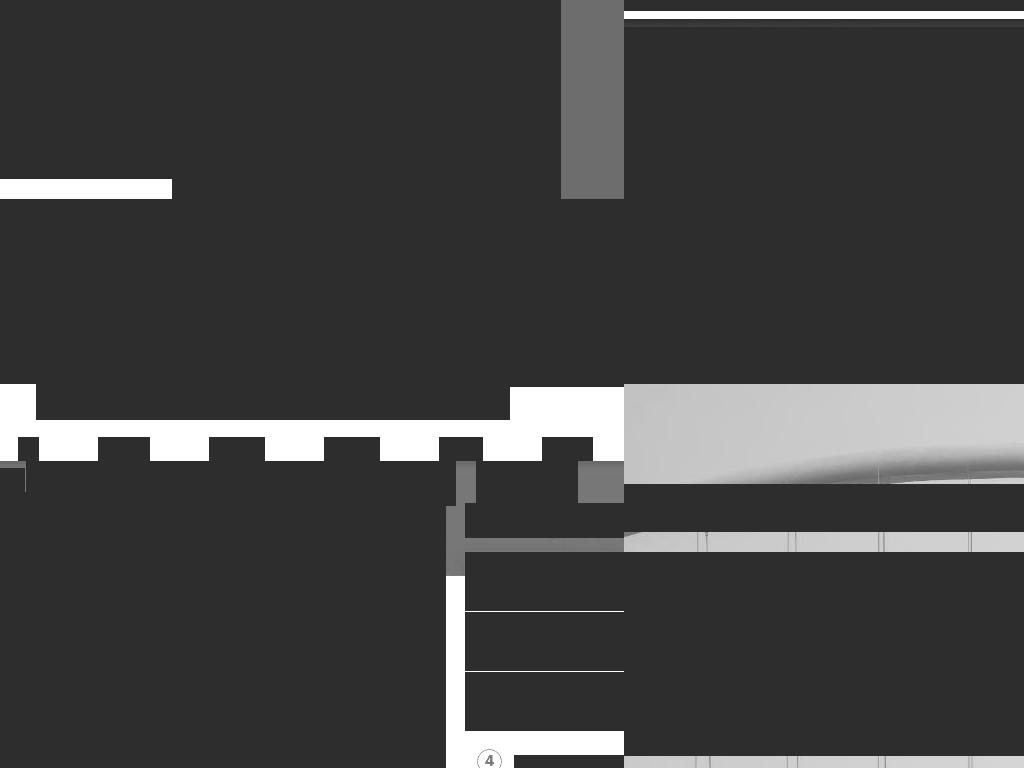button: (0, 493, 445, 768), (0, 0, 445, 179), (26, 461, 456, 506), (745, 340, 1024, 384), (465, 552, 624, 611), (465, 612, 624, 671), (465, 672, 624, 731), (465, 732, 624, 768), (172, 346, 278, 384), (286, 346, 392, 384), (400, 346, 506, 384), (514, 346, 620, 384), (0, 468, 25, 499)
heading: (624, 208, 1024, 320), (624, 484, 1024, 532), (172, 61, 526, 114), (172, 109, 500, 162), (36, 384, 510, 420), (267, 157, 411, 210), (465, 503, 624, 538), (172, 157, 257, 210), (514, 568, 624, 595), (514, 628, 624, 655), (514, 688, 624, 715), (514, 755, 624, 768)
iframe: (0, 384, 624, 768)
image: (624, 27, 1024, 384), (229, 0, 561, 384), (0, 492, 446, 768), (0, 199, 624, 384), (0, 0, 445, 179), (363, 231, 525, 383)
link: (476, 461, 578, 506), (0, 339, 142, 356), (209, 437, 265, 461), (324, 437, 380, 461), (98, 437, 150, 461), (542, 437, 593, 461), (439, 437, 483, 461), (18, 437, 39, 461)
text: (624, 552, 1024, 756), (0, 214, 394, 287), (172, 248, 584, 302), (0, 308, 394, 335), (100, 472, 341, 497), (624, 0, 1024, 11), (307, 356, 371, 376), (51, 472, 101, 497), (194, 356, 256, 376), (423, 356, 483, 376), (539, 356, 595, 376), (0, 471, 15, 496)
